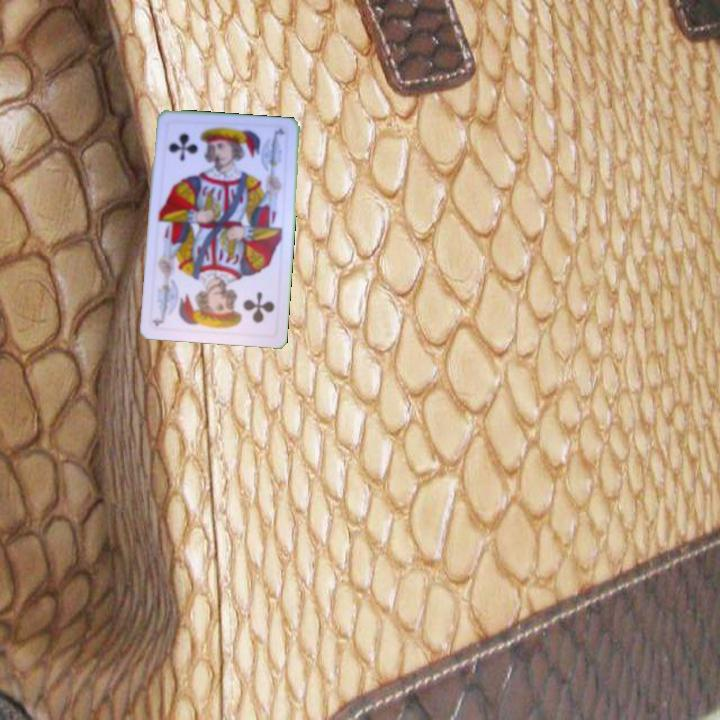c_j.png: (160, 119, 231, 181), (210, 276, 281, 338)
